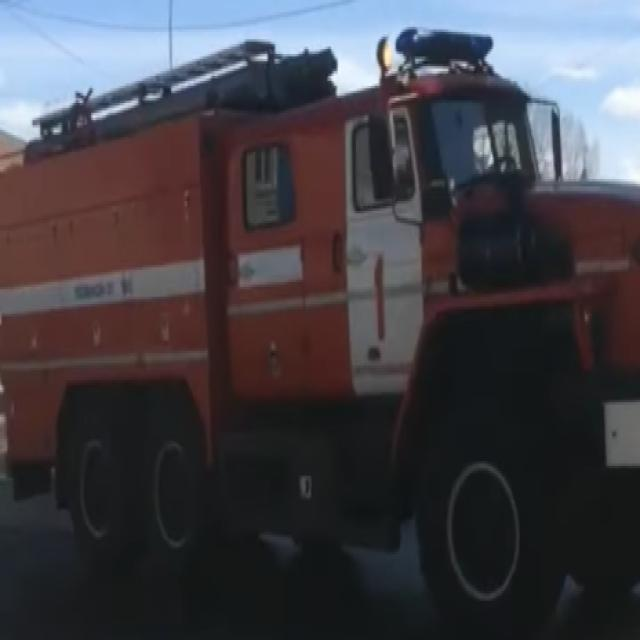fire fighting vehicle: (1, 18, 640, 640)
